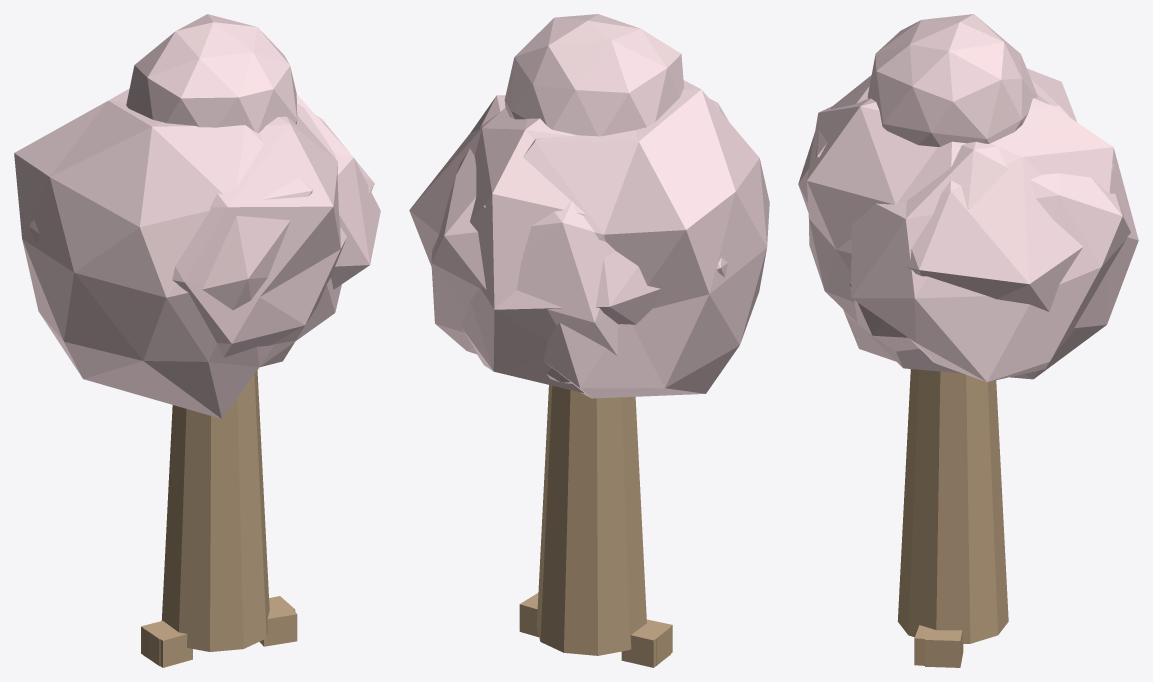
The model's file is chibi_tree_sakura.glb.
3 renders of one model, left to right at view 1: azimuth 30°, elevation 25°; view 2: azimuth 150°, elevation 25°; view 3: azimuth 270°, elevation 25°, orthographic. The views are drawn at different scales.
Parts seen in each view (by area): view 1: ChibiTree_sakura_3; view 2: ChibiTree_sakura_3; view 3: ChibiTree_sakura_3.
Part boxes in pixels (left/top/right/bottom): ChibiTree_sakura_3: left=14, top=14, right=380, bottom=667; ChibiTree_sakura_3: left=409, top=14, right=769, bottom=667; ChibiTree_sakura_3: left=798, top=14, right=1138, bottom=667.
Bounding box in the file's own units: 1.75 × 3.42 × 1.72.
